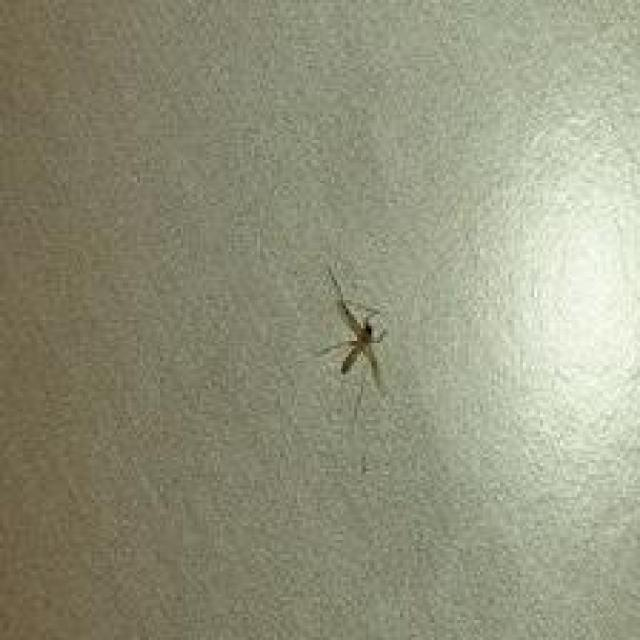Culex: (314, 263, 392, 394)
